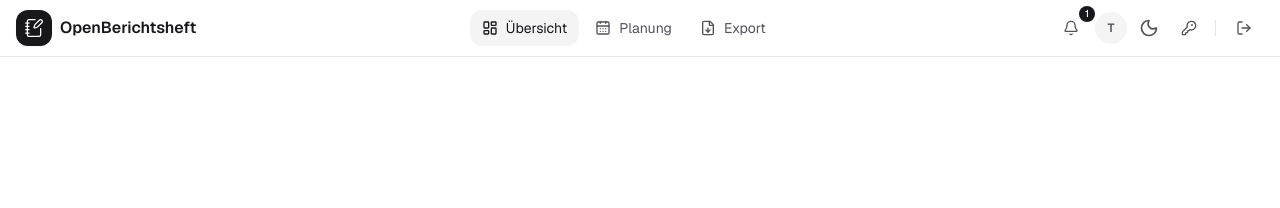
Scenario: Navbar › opens notification dropdown on bell click
Click the button with class "lucide-bell": point(1071, 28) [1051,10,1091,46]
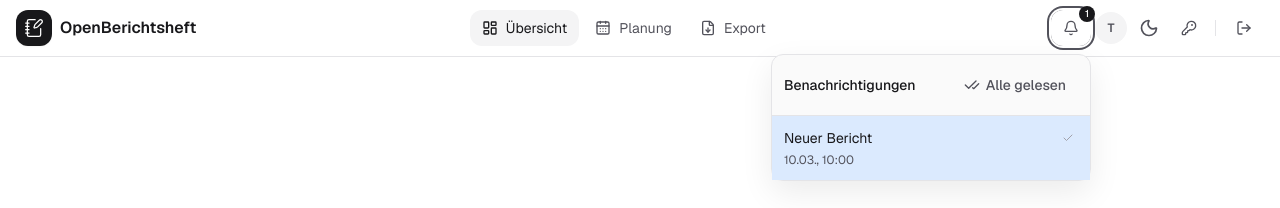
Expected: the text "Benachrichtigungen" is shown, [784,75,916,95]
Expected: the text "Neuer Bericht" is shown, [784,129,872,147]
